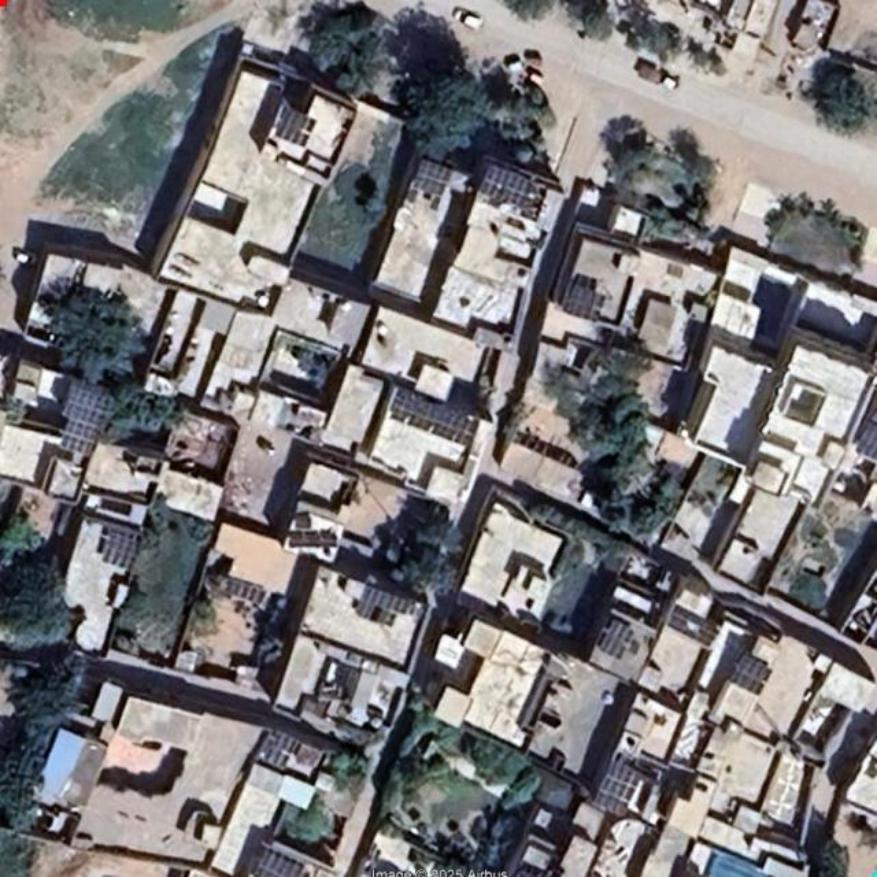Solarpanel: (391, 391, 480, 441), (62, 390, 111, 455), (591, 762, 647, 816), (480, 164, 541, 207), (670, 604, 720, 647), (103, 521, 140, 569), (731, 655, 771, 697), (259, 729, 299, 771), (566, 283, 605, 321), (415, 159, 453, 196), (254, 850, 306, 876), (602, 623, 633, 656), (226, 577, 263, 604), (856, 419, 876, 460)
